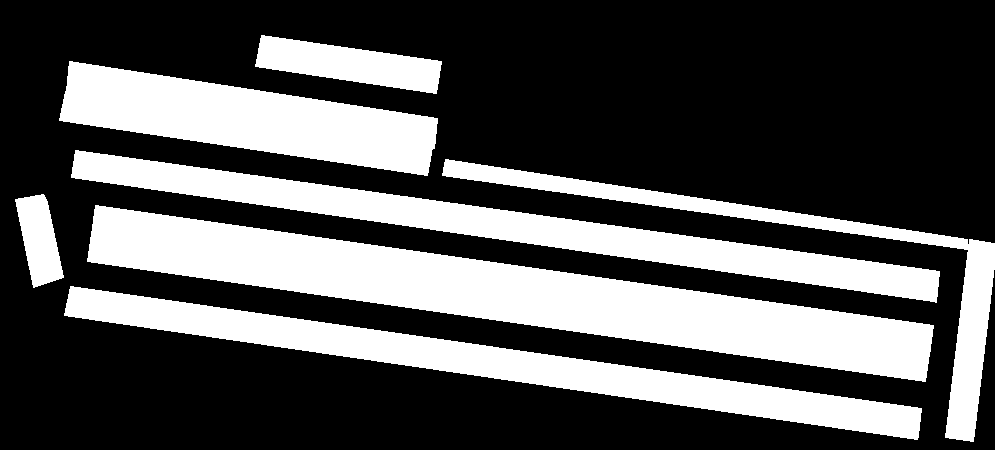parkingspot: (71, 150, 939, 302), (64, 286, 921, 439), (91, 205, 933, 355), (87, 233, 929, 381), (442, 159, 967, 249), (66, 61, 437, 148), (59, 91, 432, 175), (255, 35, 441, 93), (945, 239, 995, 441), (15, 194, 63, 287)
